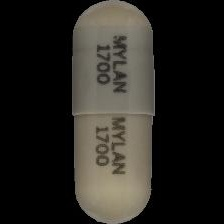43063-173: (0, 0, 224, 224)
